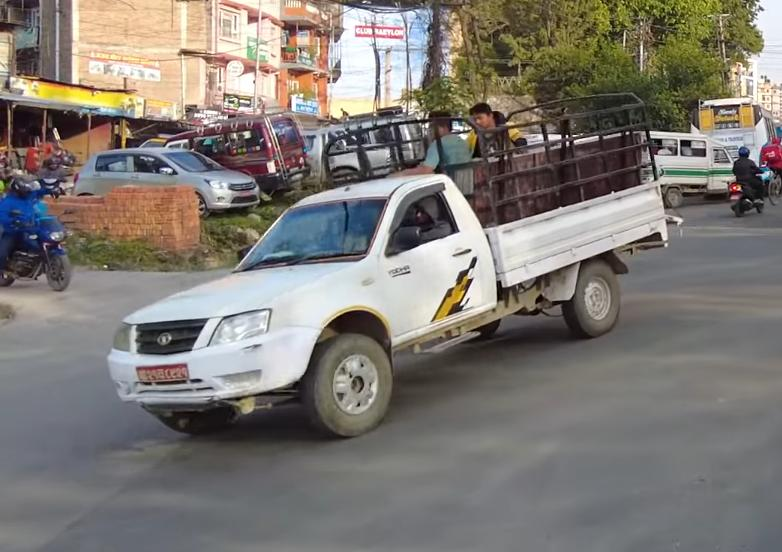bike: (3, 180, 78, 298)
bus: (690, 85, 782, 189)
car: (215, 105, 443, 182), (84, 140, 261, 220)
scooter: (720, 145, 772, 223)
transport_vehicle: (87, 77, 681, 468)
